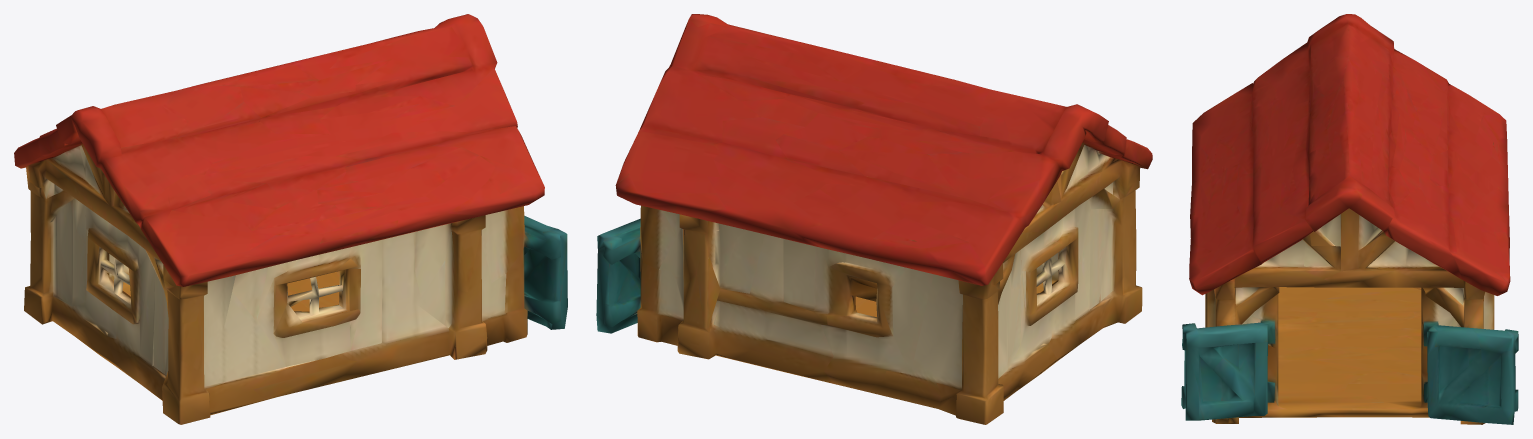
Rendered from stable.glb.
3 renders of one model, left to right at view 1: azimuth 30°, elevation 25°; view 2: azimuth 150°, elevation 25°; view 3: azimuth 270°, elevation 25°, orthographic. The views are drawn at different scales.
Visible parts, largest first — view 1: tripo_node_c7e63329-189f-45f7-ab57-3d1ffbdfeeed; view 2: tripo_node_c7e63329-189f-45f7-ab57-3d1ffbdfeeed; view 3: tripo_node_c7e63329-189f-45f7-ab57-3d1ffbdfeeed.
Boxes of the visible parts, <box> form: tripo_node_c7e63329-189f-45f7-ab57-3d1ffbdfeeed: <box>14,14,567,424</box>; tripo_node_c7e63329-189f-45f7-ab57-3d1ffbdfeeed: <box>596,14,1152,424</box>; tripo_node_c7e63329-189f-45f7-ab57-3d1ffbdfeeed: <box>1181,14,1518,424</box>.
Size of the model in its own units: 1 by 0.6267 by 0.7843.
1 material, 1 textured.
